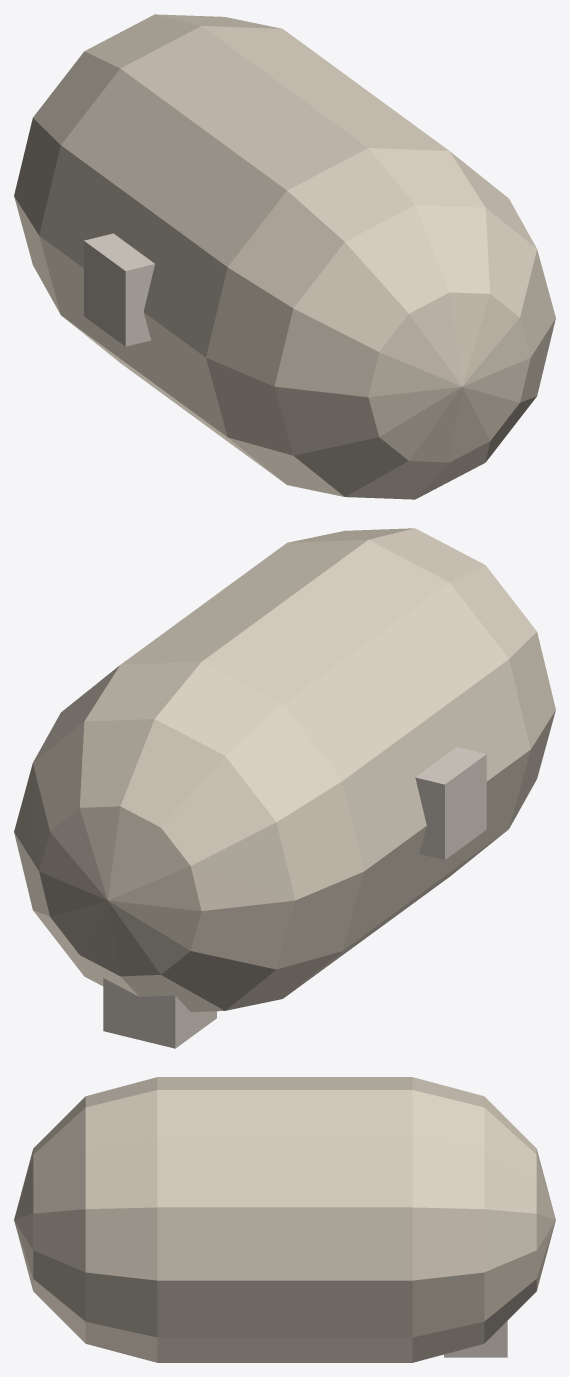
Rendered from _larm-upperarm.glb.
3 renders of one model, top to bottom at view 1: azimuth 30°, elevation 25°; view 2: azimuth 150°, elevation 25°; view 3: azimuth 270°, elevation 25°, orthographic. The views are drawn at different scales.
Bounding box in the file's own units: 0.095 × 0.09 × 0.17.
